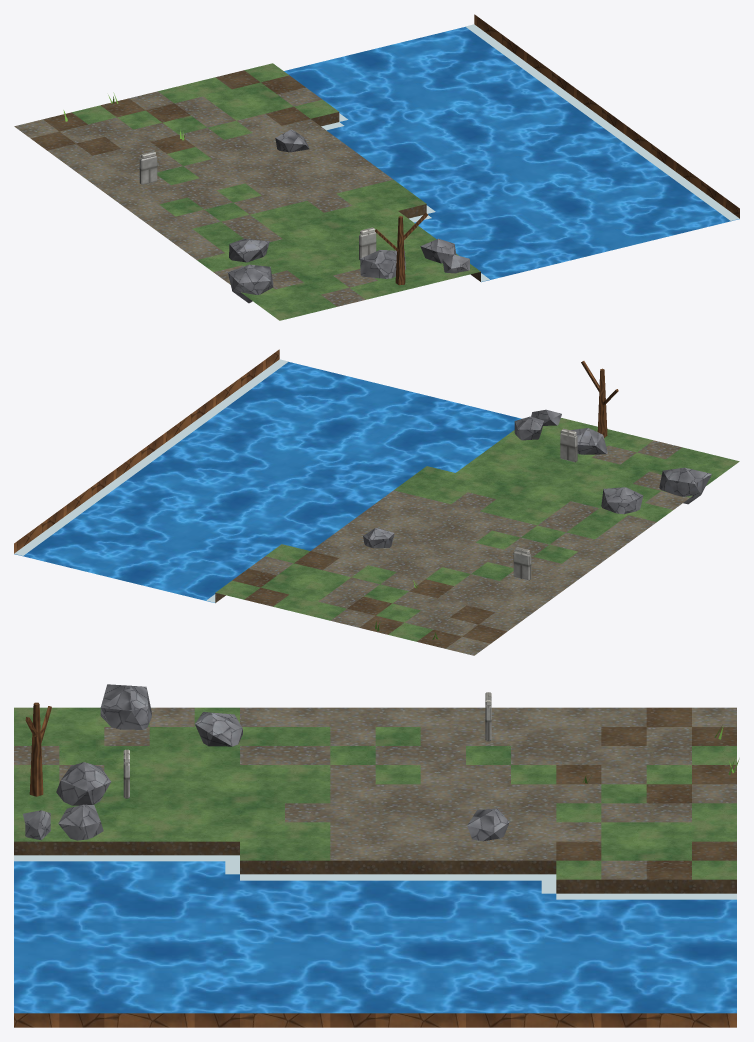
Rendered from chunk_3_19.glb.
3 renders of one model, top to bottom at view 1: azimuth 30°, elevation 25°; view 2: azimuth 150°, elevation 25°; view 3: azimuth 270°, elevation 25°, orthographic. The views are drawn at different scales.
Parts seen in each view (by area): view 1: chunk_3_19; view 2: chunk_3_19; view 3: chunk_3_19.
Boxes of the visible parts, x1,y1,x2,y2 form: chunk_3_19: (14, 14, 739, 320); chunk_3_19: (14, 349, 739, 655); chunk_3_19: (14, 684, 739, 1027).
Bounding box in the file's own units: 16.23 × 2.74 × 16.07.
Materials: 12 (10 with a texture image).
